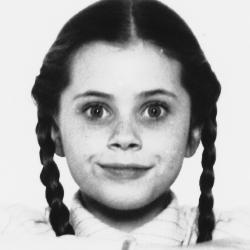face: (28, 3, 239, 241)
